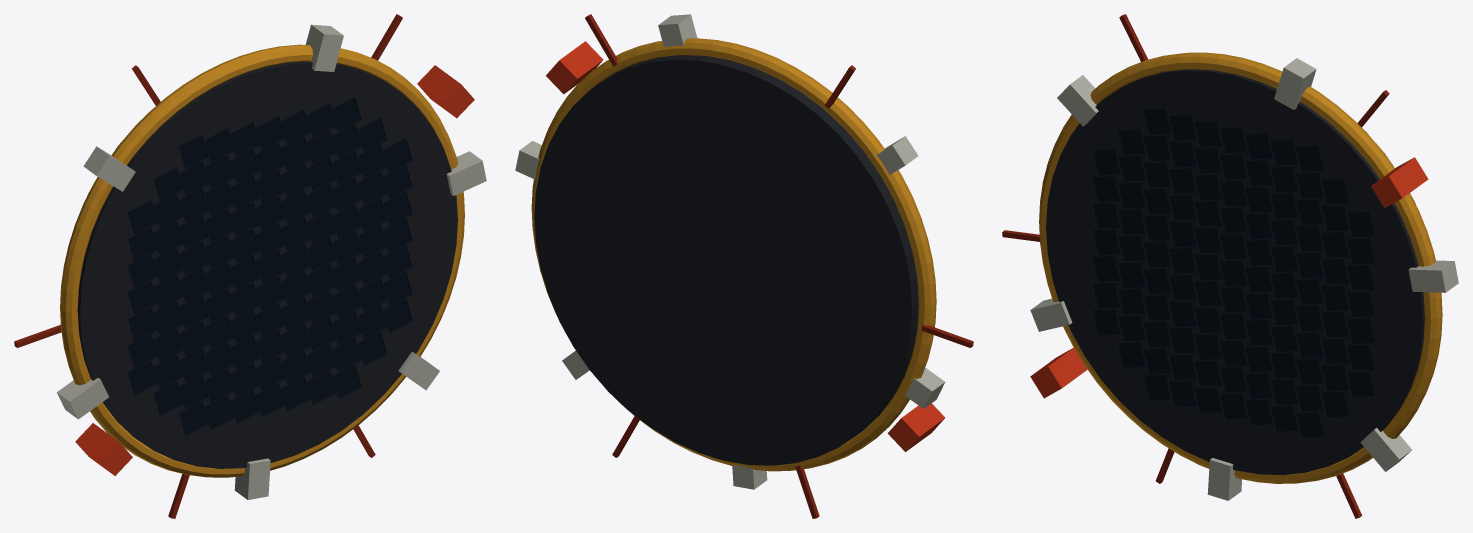
The model's file is kaiyun-2-concept.obj.
3 views of the same model, side by side, from view 1: azimuth 30°, elevation 25°; view 2: azimuth 150°, elevation 25°; view 3: azimuth 330°, elevation 25° (orthographic).
Parts seen in each view (by area): view 1: solar_cells, body, rim, perimeter_modules, star_trackers, harness; view 2: body, rim, perimeter_modules, star_trackers, harness; view 3: solar_cells, body, rim, perimeter_modules, star_trackers, harness.
Part boxes in pixels (x1,y1,x2,y2): solar_cells: (128,97,412,436); body: (77,61,457,468); rim: (60,44,464,477); perimeter_modules: (57,24,486,499); star_trackers: (75,65,474,475); harness: (14,14,402,518); body: (534,55,918,465); rim: (531,38,936,471); perimeter_modules: (515,14,944,489); star_trackers: (546,41,945,451); harness: (585,14,973,518); solar_cells: (1091,109,1374,438); body: (1046,69,1424,475); rim: (1039,52,1442,483); perimeter_modules: (1030,58,1458,500); star_trackers: (1030,157,1428,398); harness: (1002,14,1389,518).
Bounding box in the file's own units: 2.42 × 2.33 × 0.33.
